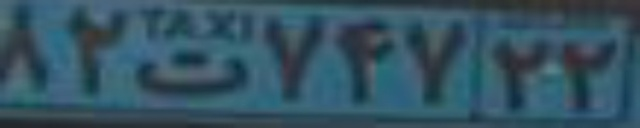2: (65, 8, 128, 93), (558, 37, 620, 110), (490, 37, 550, 109)
4: (335, 21, 394, 104)
7: (262, 13, 328, 100), (405, 17, 469, 105)
8: (0, 6, 53, 92)
te: (135, 49, 249, 93)
